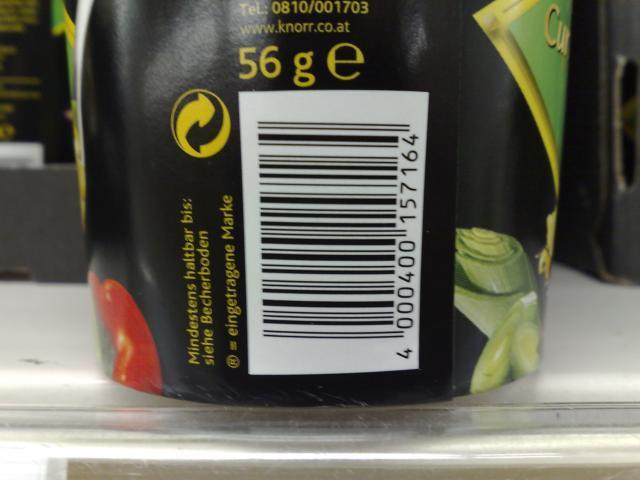Barcode: (248, 110, 425, 367)
